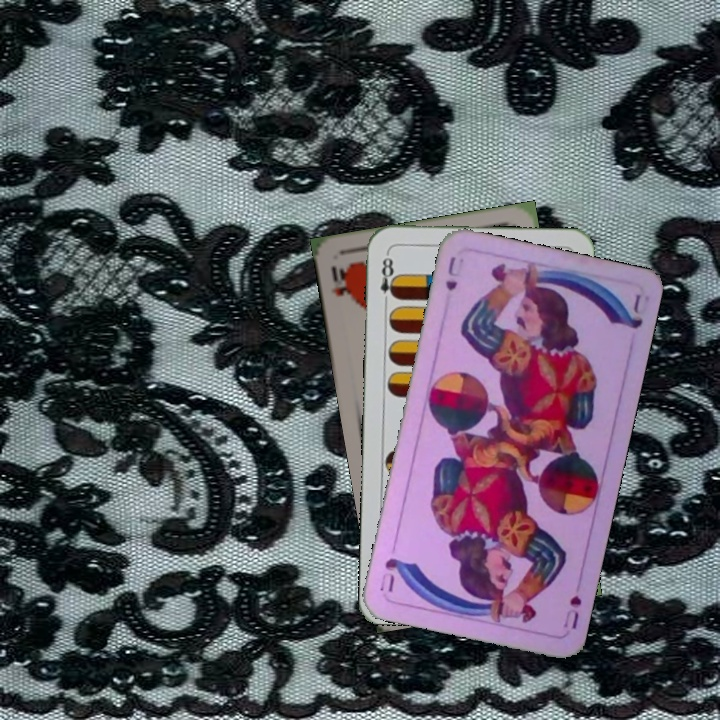E8: (376, 249, 400, 308)
HO: (327, 262, 355, 304)
SU: (441, 252, 467, 294), (558, 591, 584, 632)
